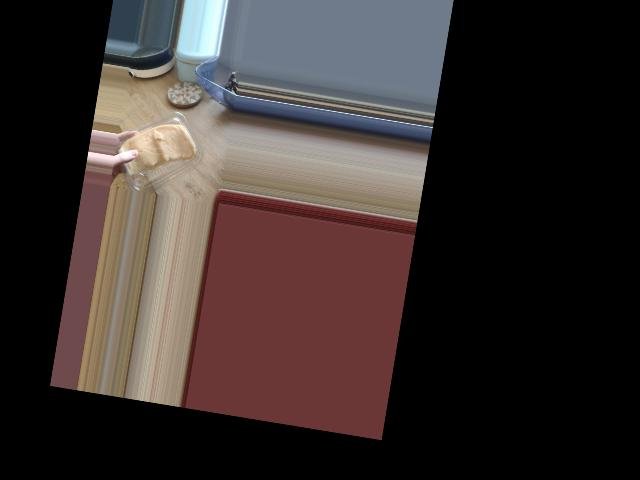cheese: (116, 96, 219, 200)
